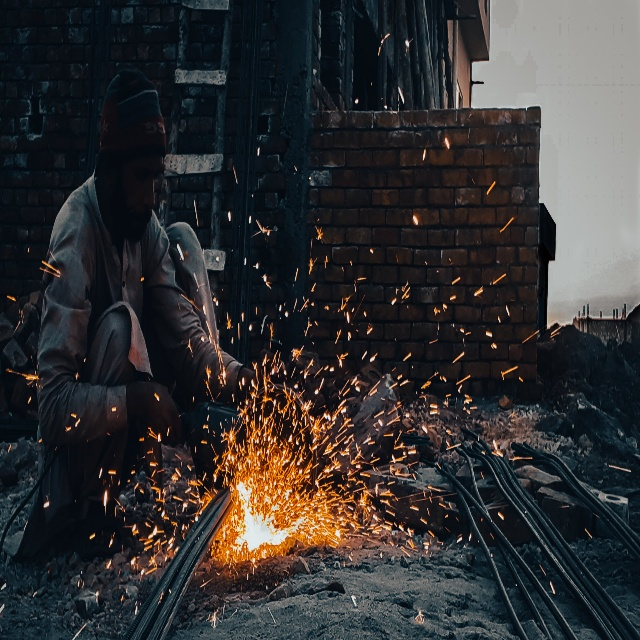Sin_guantes: (143, 381, 184, 449)
